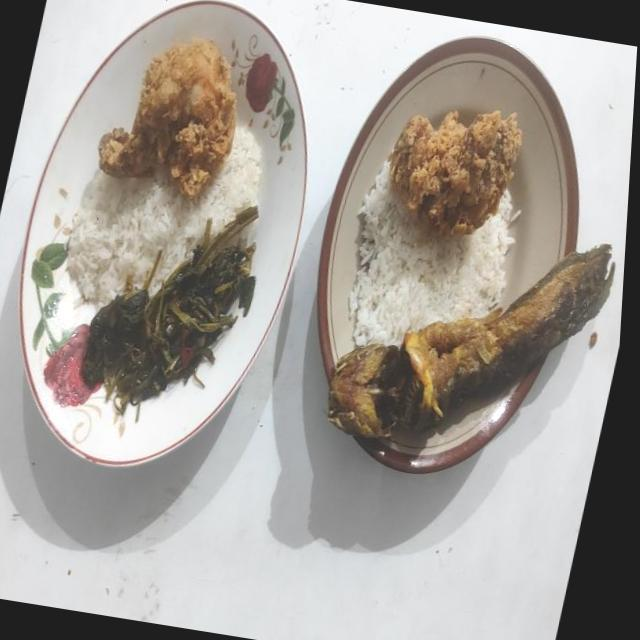nasi_putih: (68, 127, 262, 307), (348, 161, 515, 347)
tumis_kangkung: (81, 206, 258, 415)
